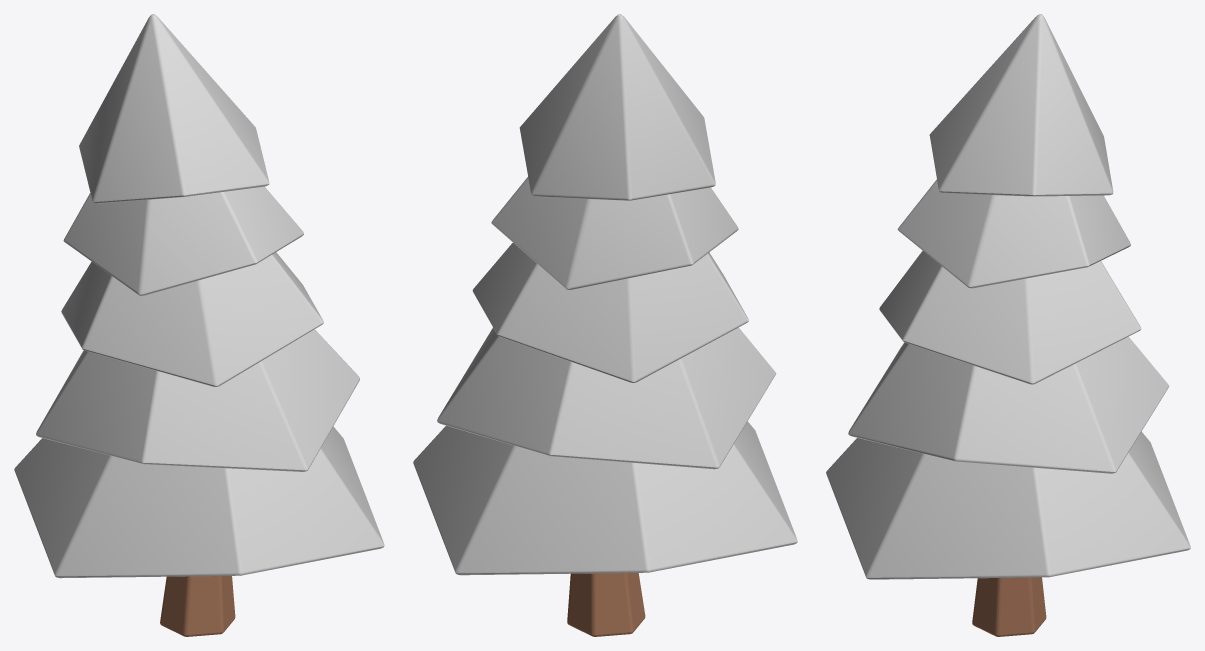
Rendered from Tree.fbx.
3 renders of one model, left to right at view 1: azimuth 30°, elevation 25°; view 2: azimuth 150°, elevation 25°; view 3: azimuth 270°, elevation 25°, orthographic. The views are drawn at different scales.
Parts seen in each view (by area): view 1: Cone.002; view 2: Cone.002; view 3: Cone.002.
Part boxes in pixels (left/top/right/bottom): Cone.002: left=14, top=14, right=384, bottom=636; Cone.002: left=413, top=14, right=797, bottom=636; Cone.002: left=826, top=14, right=1190, bottom=636.
Bounding box in the file's own units: 50.26 × 88.12 × 49.01.
